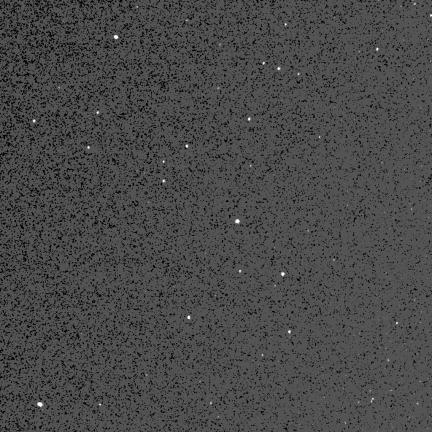blob: (235, 219, 241, 224), (38, 402, 43, 407), (248, 117, 252, 122), (114, 35, 118, 39), (281, 272, 285, 276), (163, 179, 166, 184), (33, 120, 36, 124), (87, 146, 90, 150), (289, 330, 292, 334), (97, 111, 100, 115), (285, 23, 288, 27), (278, 67, 281, 71), (376, 48, 379, 52), (396, 322, 399, 325), (239, 270, 242, 273), (185, 145, 188, 148), (188, 316, 190, 319), (163, 161, 165, 164), (263, 62, 265, 65), (262, 354, 264, 357)
